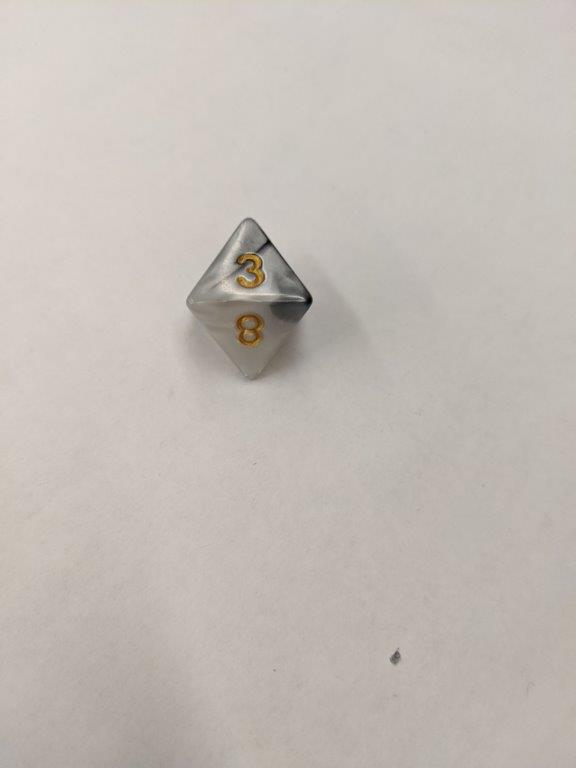d8-3: (183, 216, 313, 383)
